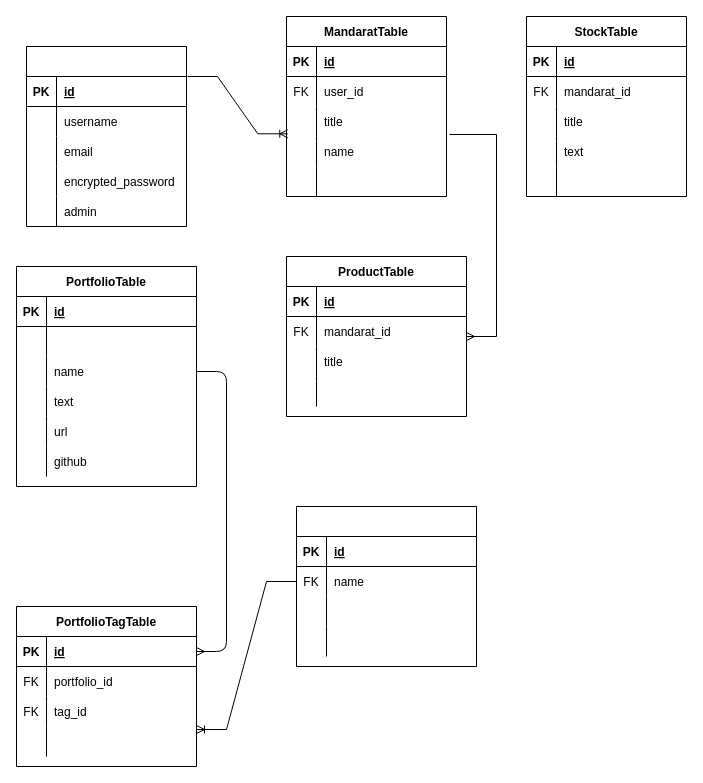
This 703x783 diagram has some shape labels left out. The shapes that lost their labels are listed below. From the top down, each one's box as (x1, y1, x2, y2) in pixels, then its label:
(26, 46, 186, 226): UserTable
(296, 506, 476, 666): TagTable
